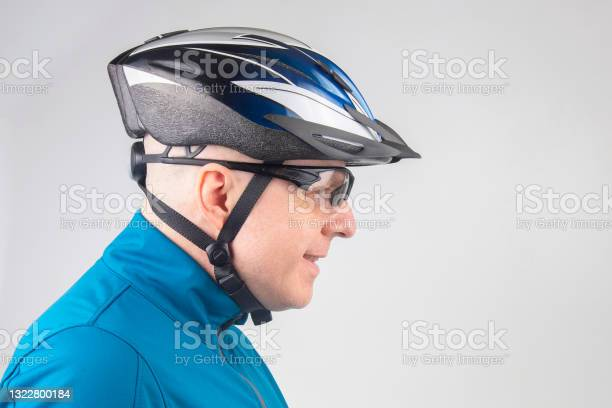helmet: (107, 27, 422, 311)
